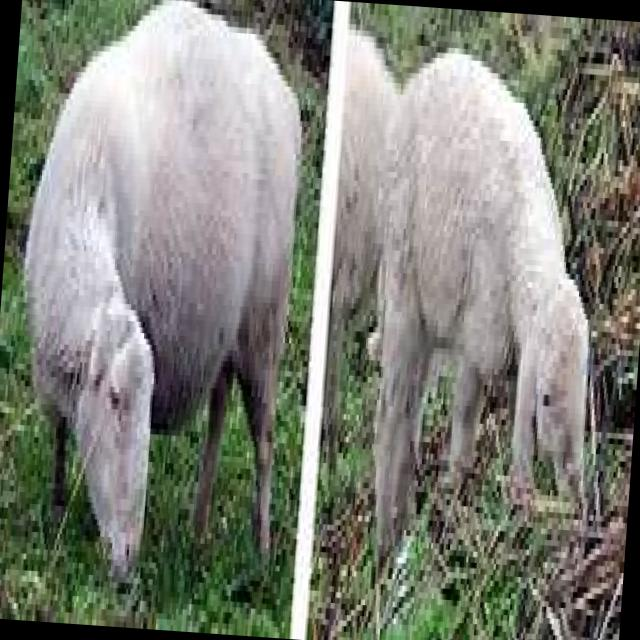animal: (2, 0, 314, 598), (312, 24, 618, 598)
